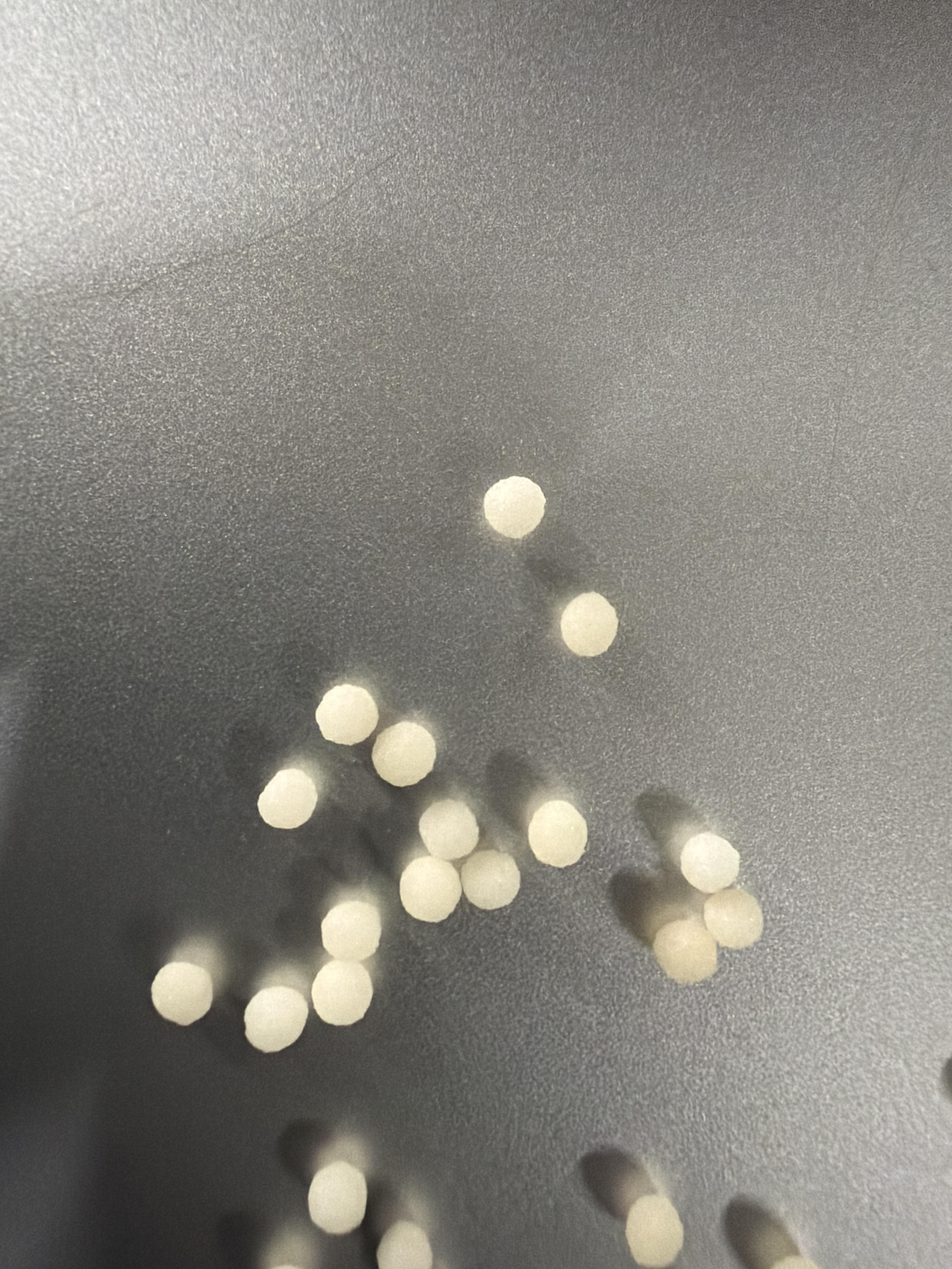pill: (308, 1160, 367, 1235), (371, 720, 436, 787), (626, 1193, 683, 1269), (245, 985, 309, 1052), (653, 918, 717, 984), (399, 855, 462, 922), (311, 960, 373, 1026), (527, 799, 587, 867), (151, 961, 213, 1026), (315, 684, 378, 745), (484, 476, 545, 539), (560, 592, 618, 657), (679, 832, 739, 894), (321, 899, 381, 961), (258, 767, 318, 829), (703, 888, 763, 949), (419, 799, 479, 859), (461, 849, 520, 910), (377, 1220, 433, 1269), (771, 1254, 819, 1269)
